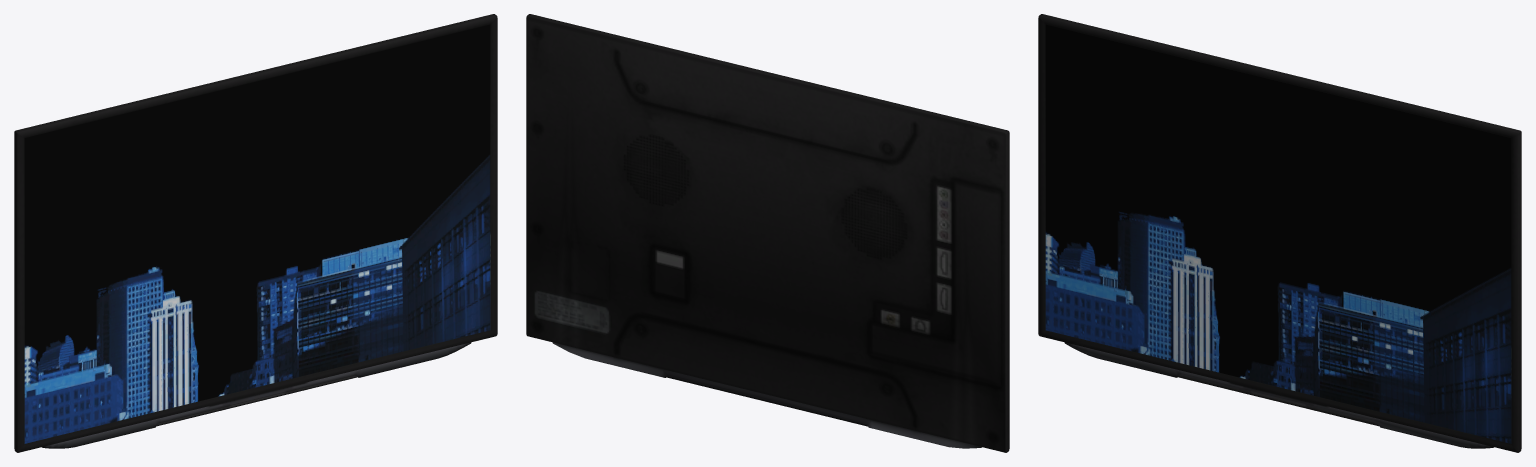
Rendered from p6_tv_led_large_lod0.glb.
The picture shows the model from 3 angles, left to right: view 1: azimuth 30°, elevation 25°; view 2: azimuth 150°, elevation 25°; view 3: azimuth 330°, elevation 25°; orthographic projection.
Parts seen in each view (by area): view 1: surf0, surf1; view 2: surf1; view 3: surf0, surf1.
Part boxes in pixels (<box>): surf0: <box>24,24,490,443</box>; surf1: <box>14,14,497,452</box>; surf1: <box>526,14,1009,452</box>; surf0: <box>1045,24,1511,443</box>; surf1: <box>1038,14,1521,452</box>.
Size of the model in its own units: 134 by 87.91 by 1.74.
